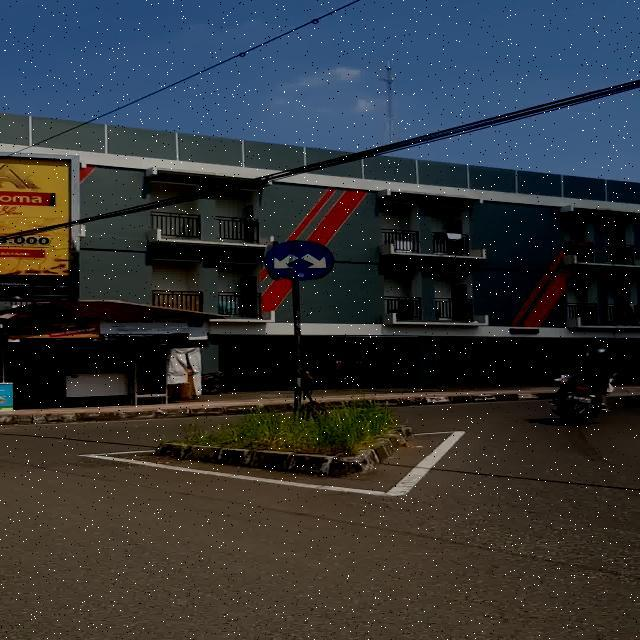Pilih Salah Satu Jalur: (265, 240, 334, 280)
